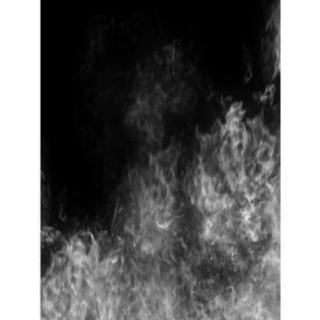Fire: (49, 18, 278, 316)
